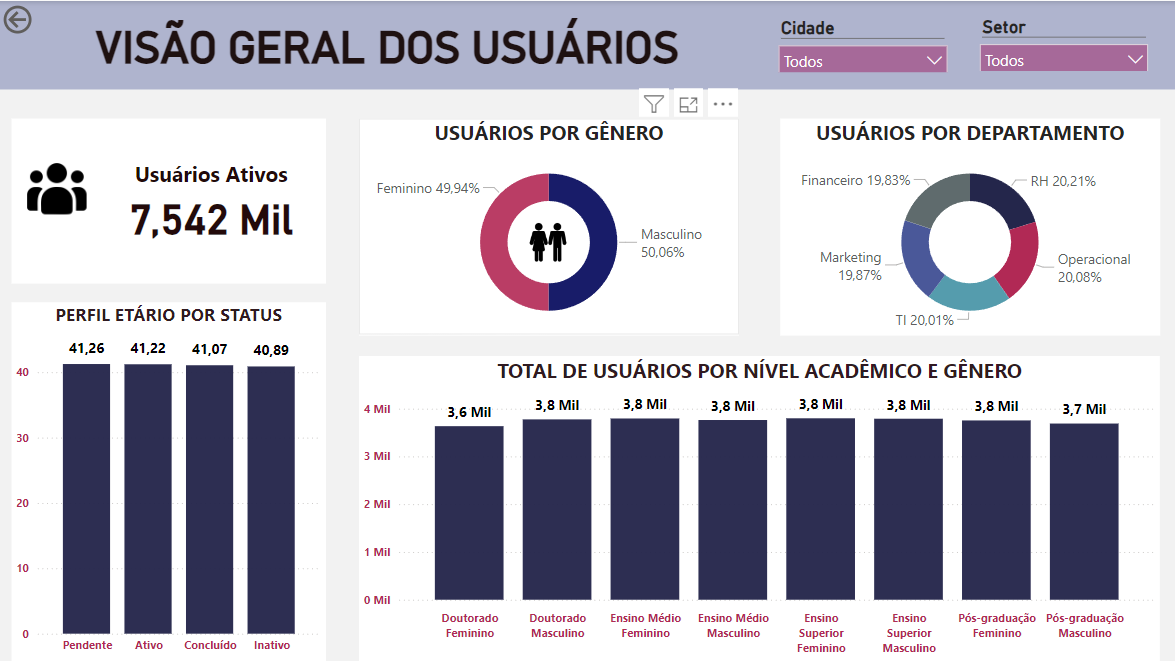

The dashboard page shown, as its layout file describes it:
{"tool":"powerbi","page":{"name":"Dashboard - Geral","canvas":[1280,720],"ordinal":0},"visuals":[{"type":"textbox","box":[0,0,1280.3,95.1],"z":0},{"type":"cardVisual","fields":{"Data":["CountNonNull(Sheet1.Status)"]},"box":[14,125.9,338.6,177.7],"z":1000},{"type":"slicer","fields":{"Values":["Sheet1.Cidade"]},"box":[827.8,13.5,201.9,63],"z":2000},{"type":"donutChart","title":"USUÁRIOS  POR GÊNERO","fields":{"Category":["Sheet1.Sexo"],"Y":["CountNonNull(Sheet1.Sexo)"]},"box":[387.6,125.9,408.6,233.7],"z":3000},{"type":"actionButton","box":[0,0,100,40],"z":4000},{"type":"slicer","fields":{"Values":["Sheet1.Setor"]},"box":[1045.2,12.6,201.5,63],"z":5000},{"type":"image","box":[534.5,233.7,113.3,51.8],"z":6000},{"type":"donutChart","title":"USUÁRIOS POR DEPARTAMENTO","fields":{"Category":["Sheet1.Setor"],"Y":["CountNonNull(Sheet1.Setor)"]},"box":[840.9,125.9,408.6,233.7],"z":7000},{"type":"clusteredColumnChart","title":"TOTAL DE USUÁRIOS POR  NÍVEL ACADÊMICO E GÊNERO","fields":{"Category":["Sheet1.Nível_Educação","Sheet1.Sexo"],"Y":["CountNonNull(Sheet1.Nome)"]},"box":[387.6,382,861.9,328.8],"z":8000},{"type":"lineStackedColumnComboChart","title":"PERFIL ETÁRIO POR STATUS","fields":{"Category":["Sheet1.Status"],"Y":["Avg(Sheet1.Idade)"]},"box":[14,324.6,338.6,386.2],"z":9000}]}

Visuals, with their boxes in screenshot pixels (x1, y1, x2, y2), scaled from the page's 1280x720 canvas onto the 1175x661 screenshot:
textbox: pyautogui.locateOnScreen(0, 0, 1174, 87)
cardVisual - CountNonNull(Sheet1.Status): pyautogui.locateOnScreen(13, 116, 324, 279)
slicer - Sheet1.Cidade: pyautogui.locateOnScreen(760, 12, 945, 70)
"USUÁRIOS  POR GÊNERO" donutChart: pyautogui.locateOnScreen(356, 116, 731, 330)
actionButton: pyautogui.locateOnScreen(0, 0, 92, 37)
slicer - Sheet1.Setor: pyautogui.locateOnScreen(959, 12, 1144, 69)
image: pyautogui.locateOnScreen(491, 215, 595, 262)
"USUÁRIOS POR DEPARTAMENTO" donutChart: pyautogui.locateOnScreen(772, 116, 1147, 330)
"TOTAL DE USUÁRIOS POR  NÍVEL ACADÊMICO E GÊNERO" clusteredColumnChart: pyautogui.locateOnScreen(356, 351, 1147, 653)
"PERFIL ETÁRIO POR STATUS" lineStackedColumnComboChart: pyautogui.locateOnScreen(13, 298, 324, 653)
